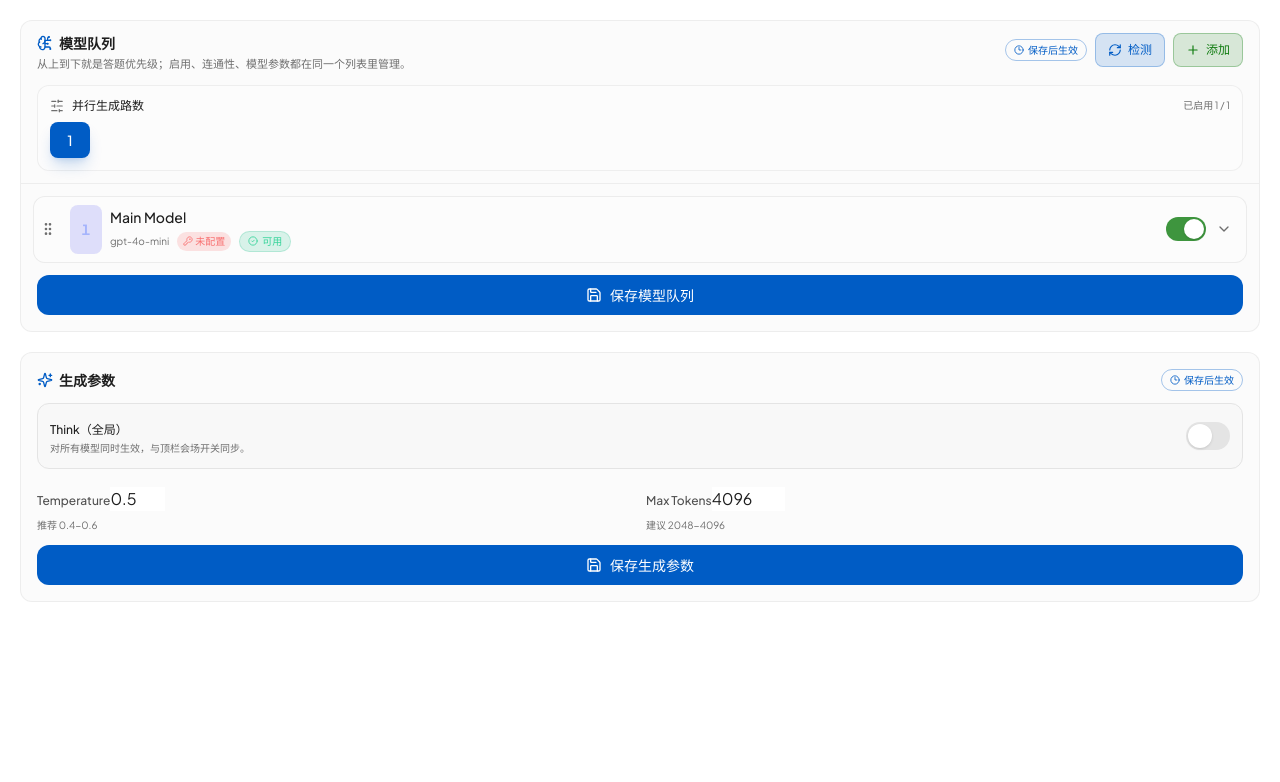
ModelsTab state sync › shows remote model fetch failures without overwriting existing fields
Expected: the button "保存模型队列" is shown, 37,275 -> 1243,315
Click the text "Main Model": (148, 217) 110,207 -> 186,227
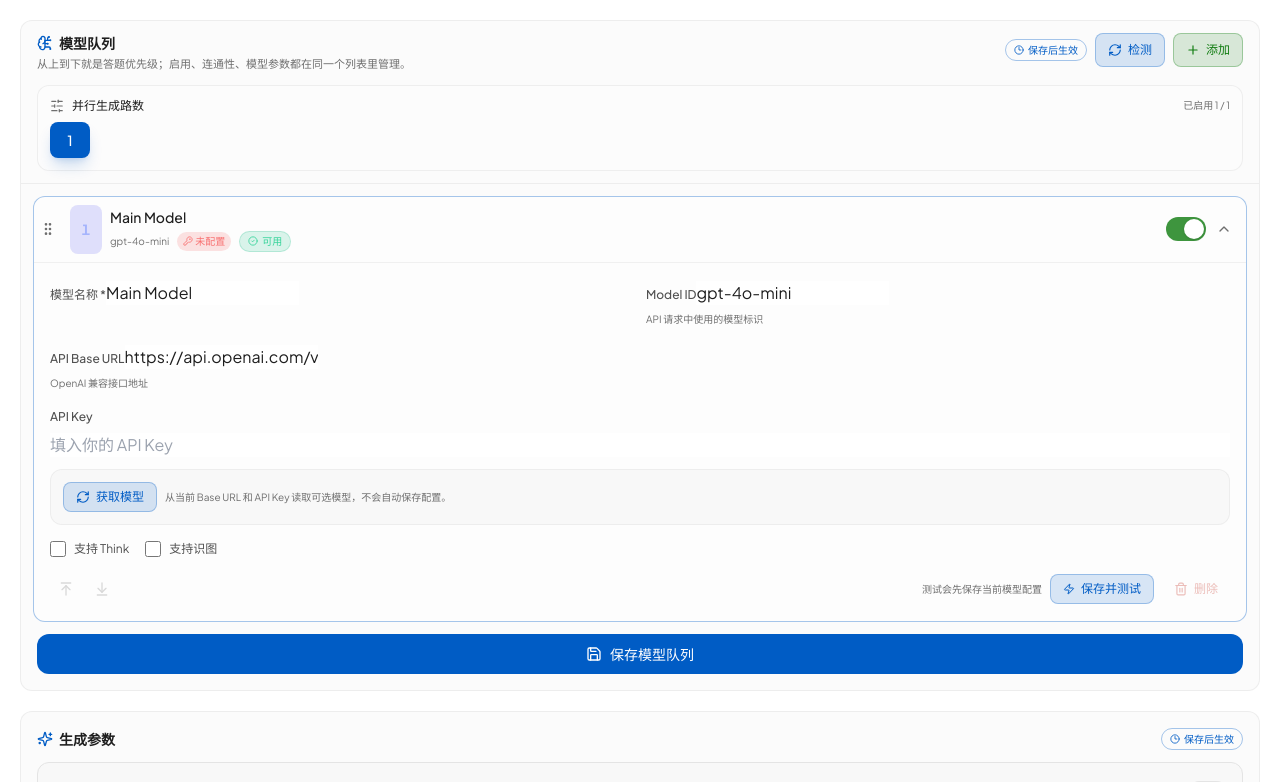
In the field with placeholder "填入你的 API Key": (640, 445) 50,433 -> 1230,457, type "sk-test"
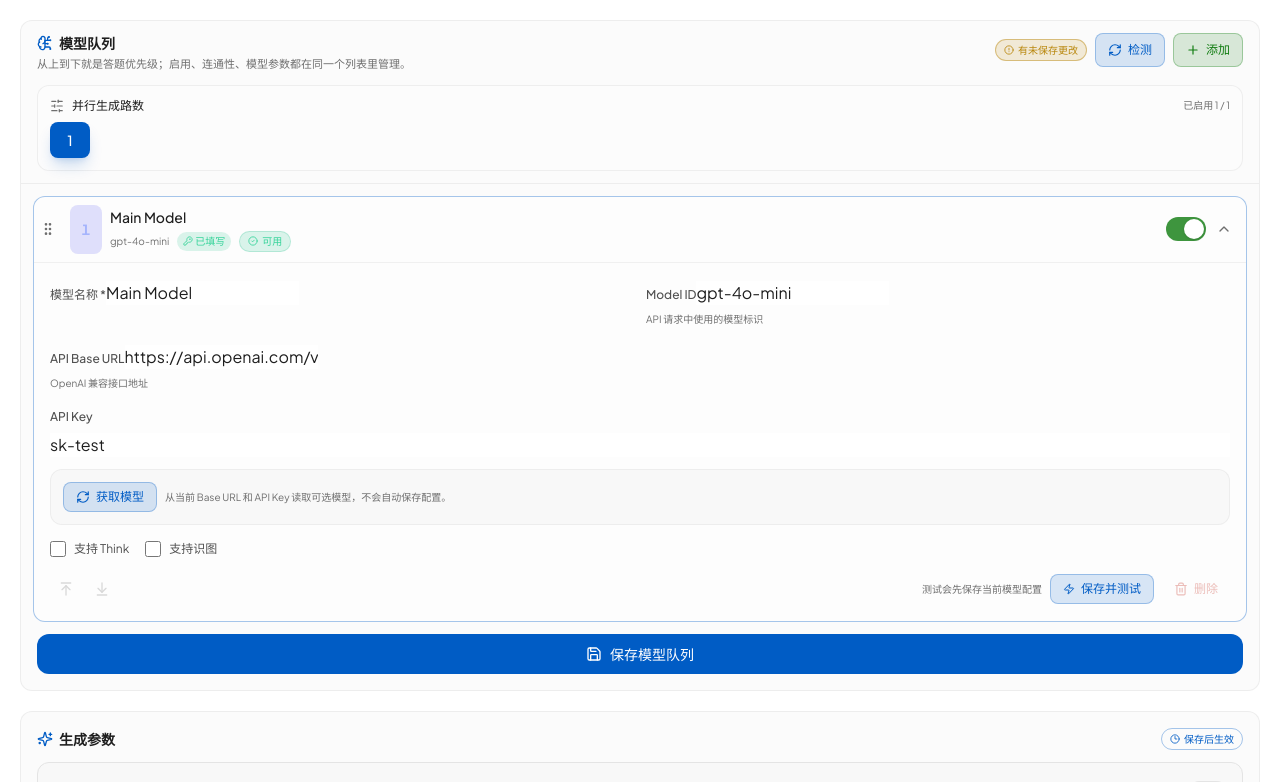
Click the button "获取模型": (110, 497) 63,482 -> 157,512
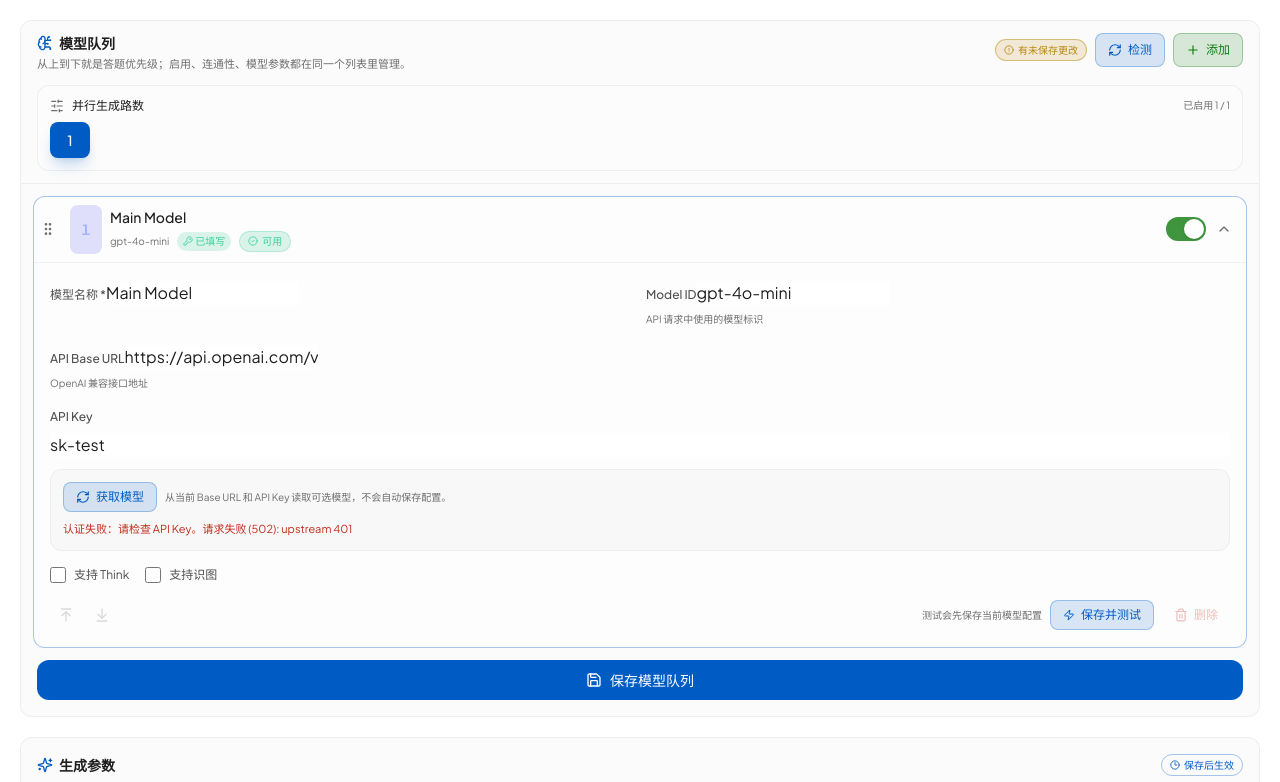
Expected: the field with placeholder "如：GPT-4o、DeepSeek-V3" next to "模型名称 *" holds "Main Model", 106,281 -> 299,305
Expected: the message shows "认证失败：请检查 API Key", 63,522 -> 352,535
Expected: the message shows "请求失败 (502): upstream 401", 63,522 -> 352,535
